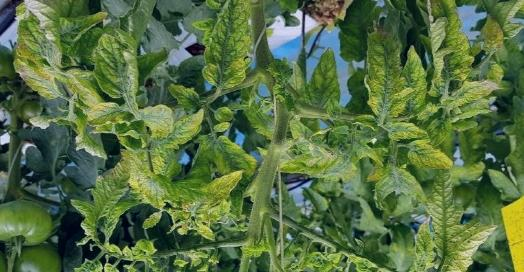Tomato leaf yellow virus: (0, 0, 68, 103), (359, 12, 414, 125), (78, 154, 147, 237), (198, 0, 255, 100), (424, 0, 478, 93), (95, 17, 143, 103), (300, 45, 342, 113), (198, 157, 246, 212), (153, 110, 212, 153), (436, 76, 507, 111), (402, 140, 465, 169), (135, 102, 178, 136), (84, 96, 118, 129)
